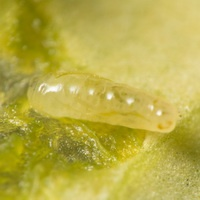insect: (27, 73, 176, 132)
